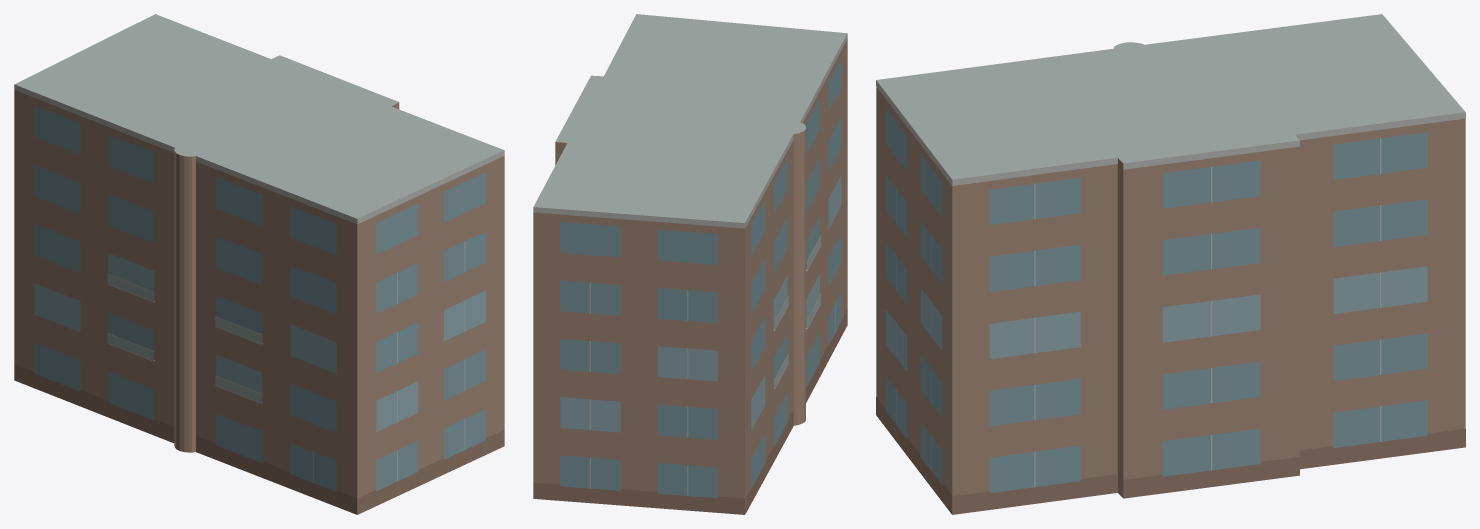
Rendered from survey-upis-32765440.glb.
3 views of the same model, side by side, from view 1: azimuth 30°, elevation 25°; view 2: azimuth 150°, elevation 25°; view 3: azimuth 270°, elevation 25° (orthographic). The views are drawn at different scales.
Visible parts, largest first — view 1: survey-upis-32765440.tmp; view 2: survey-upis-32765440.tmp; view 3: survey-upis-32765440.tmp.
Part boxes in pixels (x1,y1,x2,y2): survey-upis-32765440.tmp: (14, 14, 504, 514); survey-upis-32765440.tmp: (533, 14, 847, 514); survey-upis-32765440.tmp: (876, 14, 1465, 514).
Size of the model in its own units: 14.02 by 13.2 by 21.07.
